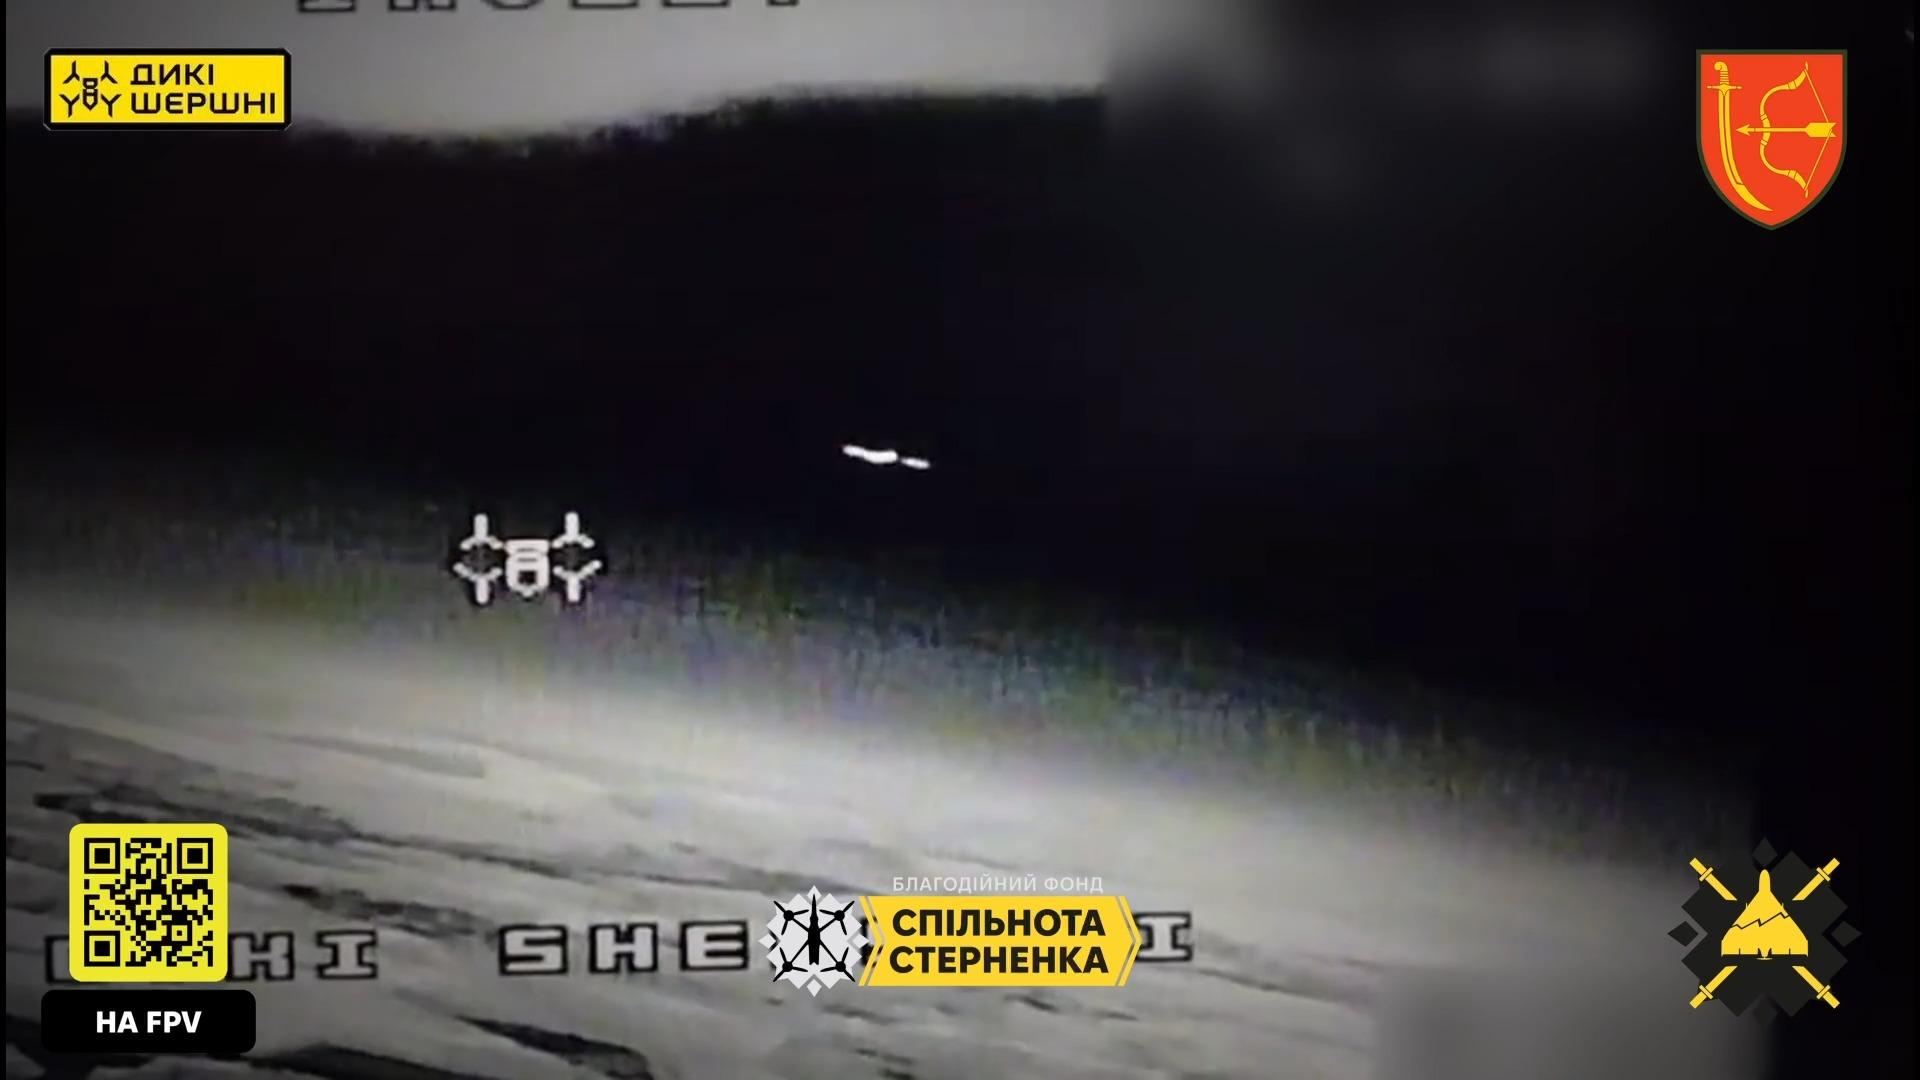Gerbera: (840, 443, 932, 471)
